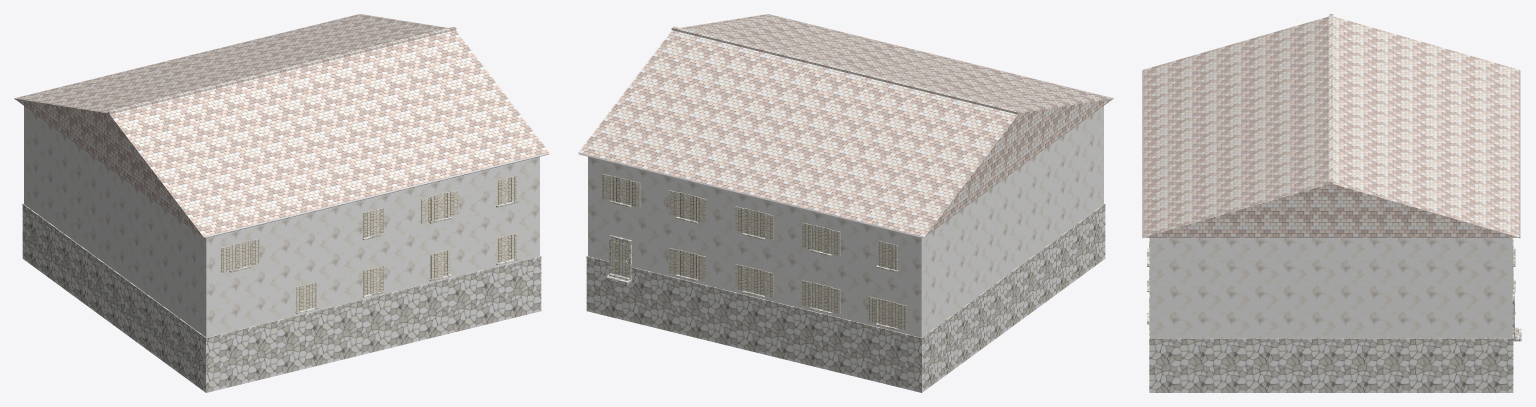
3 renders of one model, left to right at view 1: azimuth 30°, elevation 25°; view 2: azimuth 150°, elevation 25°; view 3: azimuth 270°, elevation 25°, orthographic.
Visible parts, largest first — view 1: b615242522; view 2: b615242522; view 3: b615242522.
Boxes of the visible parts, <box> form: b615242522: <box>14,14,549,392</box>; b615242522: <box>578,14,1113,392</box>; b615242522: <box>1142,14,1521,392</box>.
Bounding box in the file's own units: 19.48 × 11.56 × 18.6.
Materials: 16 (16 with a texture image).
